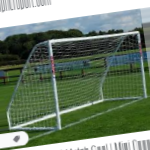goals: (5, 29, 149, 131)
